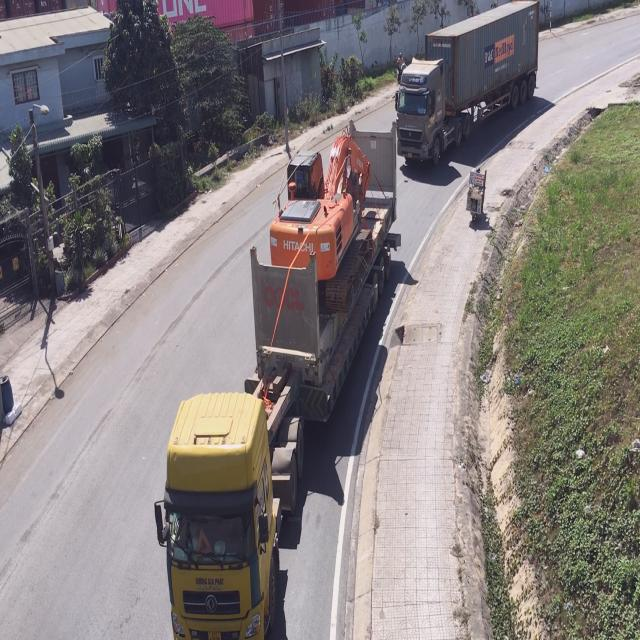motorbike: (466, 166, 482, 223)
truck: (153, 125, 397, 640), (392, 0, 537, 168)
